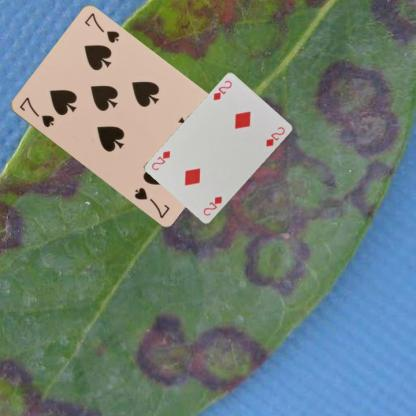2d: (210, 78, 233, 102), (201, 194, 223, 217)
7s: (16, 94, 56, 129)
